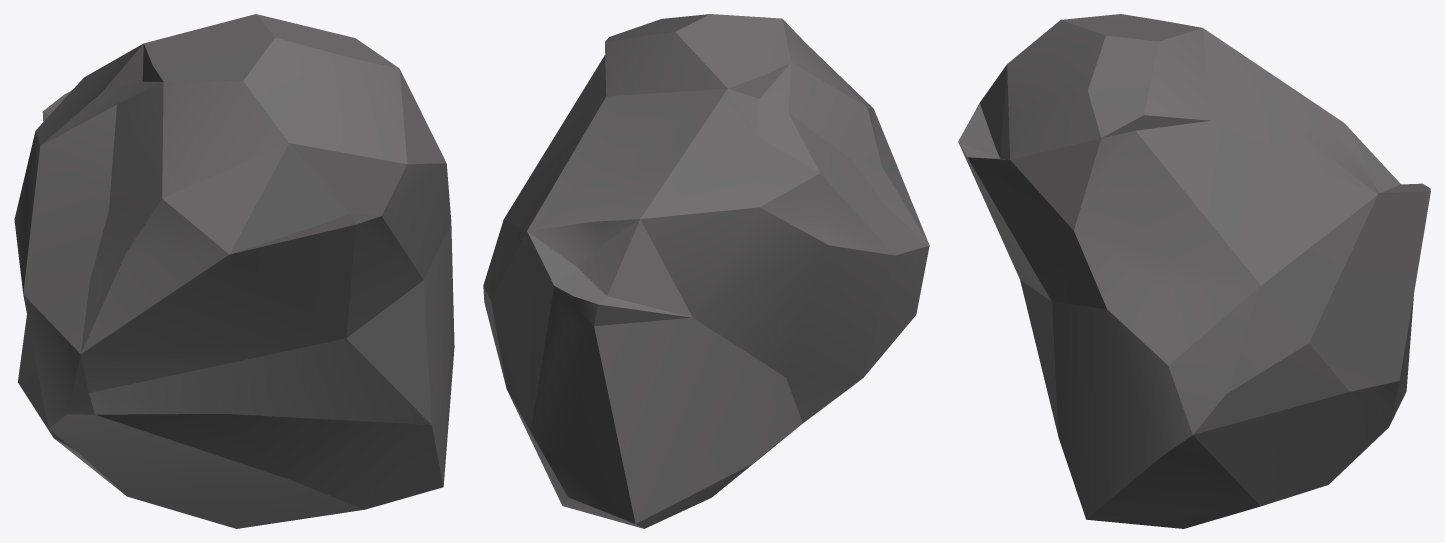
File: RockA.fbx
The picture shows the model from 3 angles, left to right: view 1: azimuth 30°, elevation 25°; view 2: azimuth 150°, elevation 25°; view 3: azimuth 270°, elevation 25°; orthographic projection. The views are drawn at different scales.
Visible parts, largest first — view 1: RockA; view 2: RockA; view 3: RockA.
Boxes of the visible parts, box(x1,y1,x2,y2) form: RockA: box(14, 14, 454, 528); RockA: box(483, 14, 929, 528); RockA: box(958, 14, 1430, 528).
Bounding box in the file's own units: 579 × 655 × 606.
